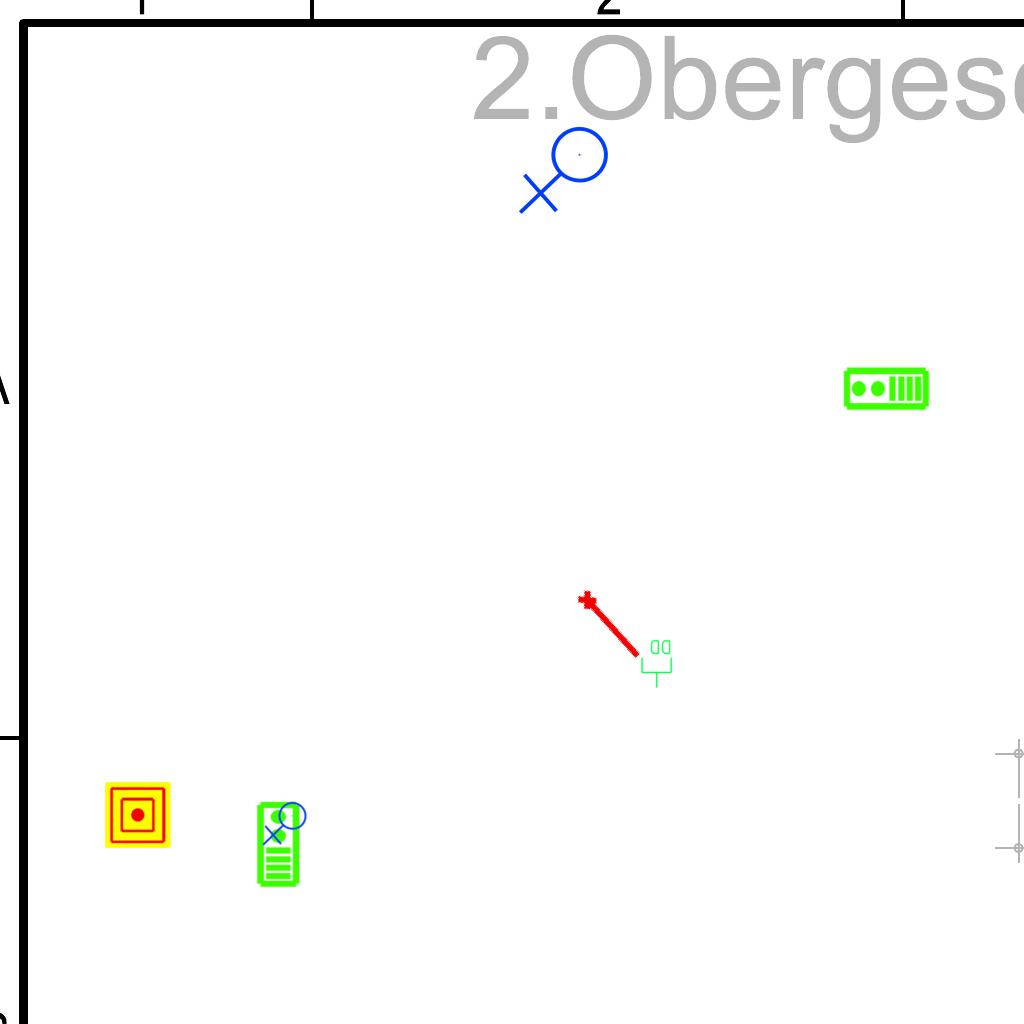ASR_Ansaugoeffnung: (573, 584, 649, 665)
Datenanschluss_zweifach: (640, 638, 674, 689)
Elektroanschluss_allgemein_230V_Geraeteanschlussdose_230V: (518, 125, 617, 219), (262, 801, 311, 848)
Gegensprechanlage_mit_Video: (254, 800, 301, 888), (842, 366, 930, 413)
NAM-Nichtautomatischer_Melder: (105, 782, 171, 848)
